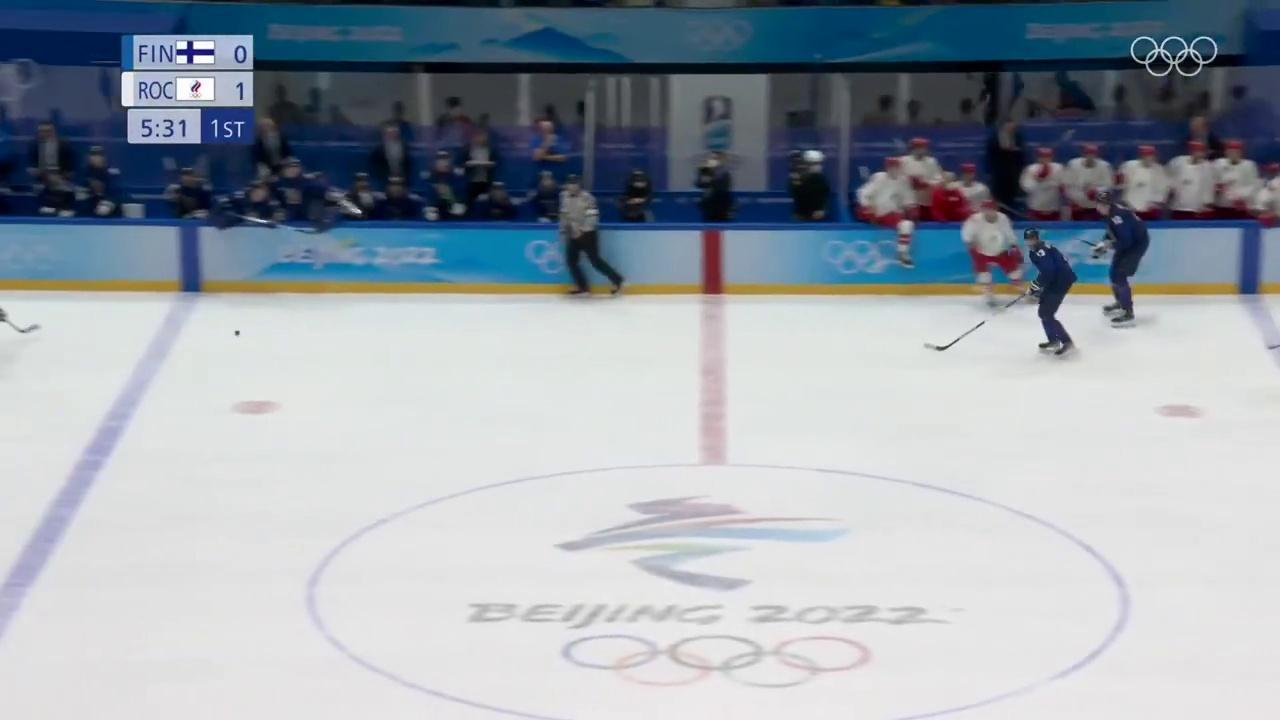ball: (234, 330, 241, 336)
